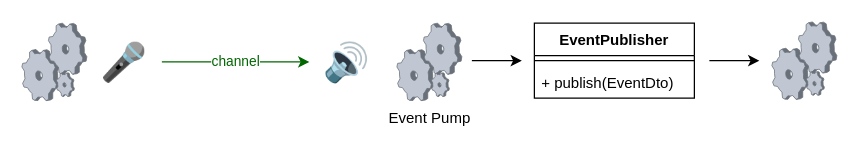
Image size: 865x148. Some labels were removed from this diagram. Here are the shapes that lost their labels. From the top down, the centre of each, then its label:
the point at 53,61: Beeper
the point at 803,60: Web Server
